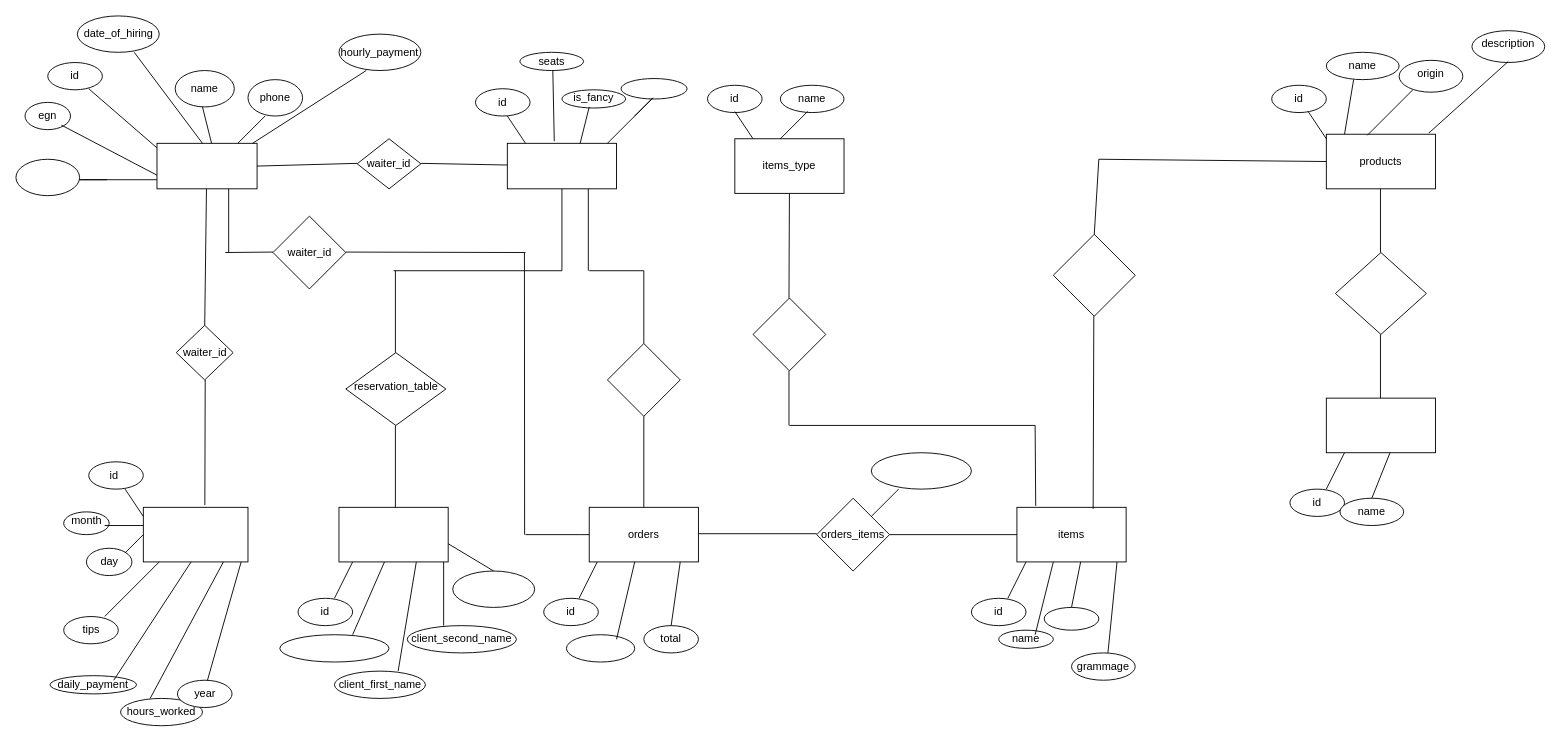
Image size: 1561x742. Some labels were removed from this diagram. The shapes that lost their labels are listed below. From the top down, each one's box as (x1, y1, x2, y2) in pixels, then its label:
(620, 78, 687, 99): is_reserved
(15, 158, 80, 196): address
(156, 142, 257, 189): waiters
(506, 142, 617, 189): tables
(1052, 233, 1135, 316): items_products
(1335, 252, 1426, 334): product_type_id
(752, 297, 826, 371): item_type_id
(607, 343, 680, 416): table_id
(1325, 397, 1436, 453): products_type
(870, 452, 971, 489): quantity_of_items
(142, 506, 248, 562): waiters_payment
(338, 506, 448, 562): reservations
(452, 570, 535, 607): client_phone
(1043, 607, 1099, 630): prize
(279, 634, 389, 662): reservation_date
(566, 634, 635, 662): date_time
